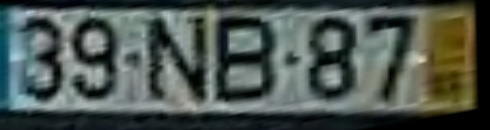3: (14, 14, 67, 105)
7: (365, 12, 421, 111)
8: (302, 13, 363, 106)
9: (70, 15, 122, 104)
B: (214, 14, 283, 107)
N: (143, 14, 213, 107)
